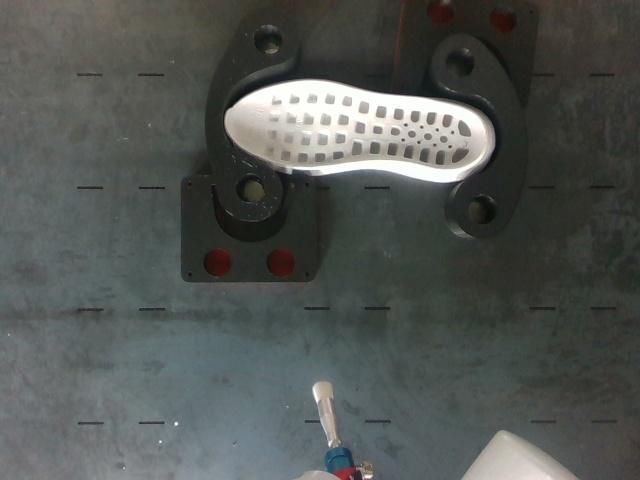shoes: (226, 81, 486, 169)
